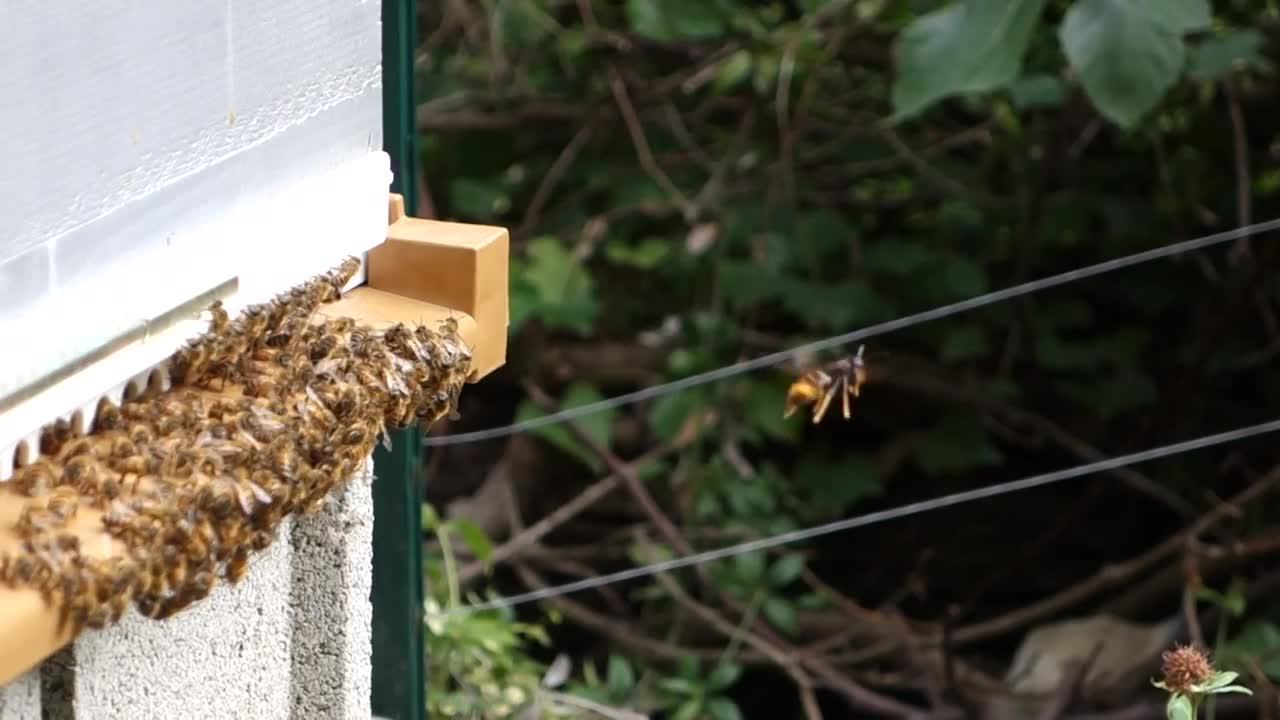bee: (195, 331, 388, 407), (121, 435, 200, 610), (20, 500, 112, 636), (197, 409, 290, 535), (290, 411, 382, 485), (380, 368, 449, 421), (260, 286, 323, 332), (203, 546, 252, 601), (59, 445, 113, 492), (124, 391, 179, 430), (388, 318, 435, 363), (200, 298, 237, 337), (327, 249, 361, 291), (438, 314, 467, 360)
hornet: (790, 342, 880, 430)
